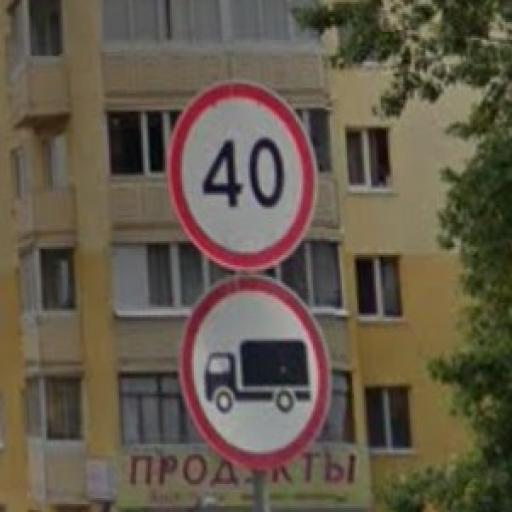traffic_sign: (178, 274, 333, 473), (169, 81, 321, 274)
